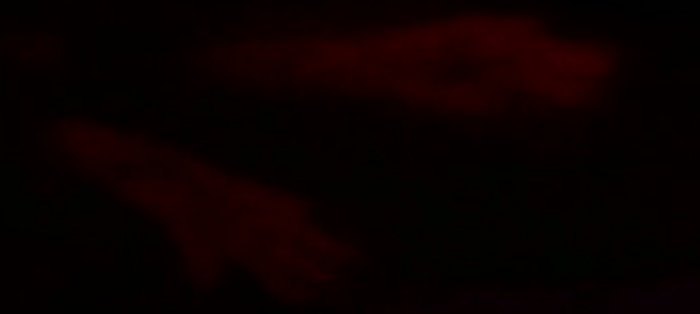paw: (221, 7, 619, 132), (66, 153, 370, 301)
